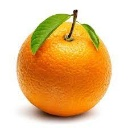orange: (15, 9, 116, 118)
